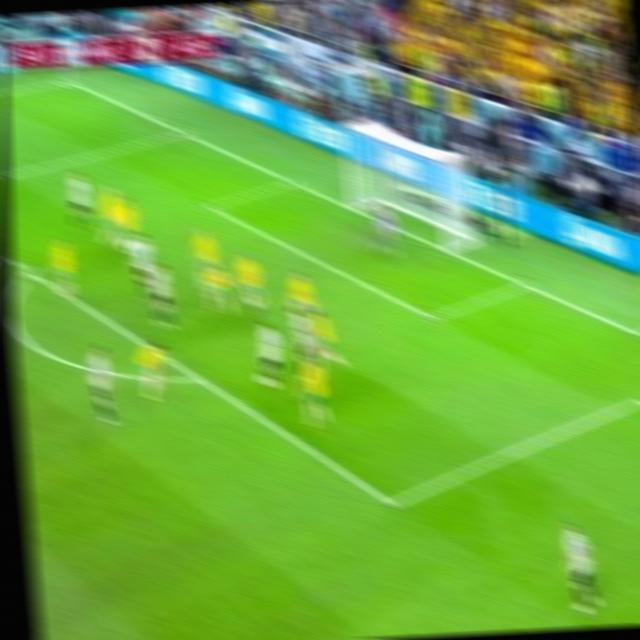bigarea_bottom_inner: (379, 488, 410, 522)
bigarea_top_outter: (173, 120, 195, 143)
bottom_arc_area_intersection: (184, 366, 209, 390)
corner: (58, 75, 79, 89)
smallarea_bottom_inner: (419, 300, 446, 334)
smallarea_bottom_outter: (514, 271, 535, 297)
smallarea_top_inner: (197, 195, 223, 220)
smallarea_top_outter: (283, 172, 304, 194)
top_arc_area_intersection: (19, 261, 42, 285)
